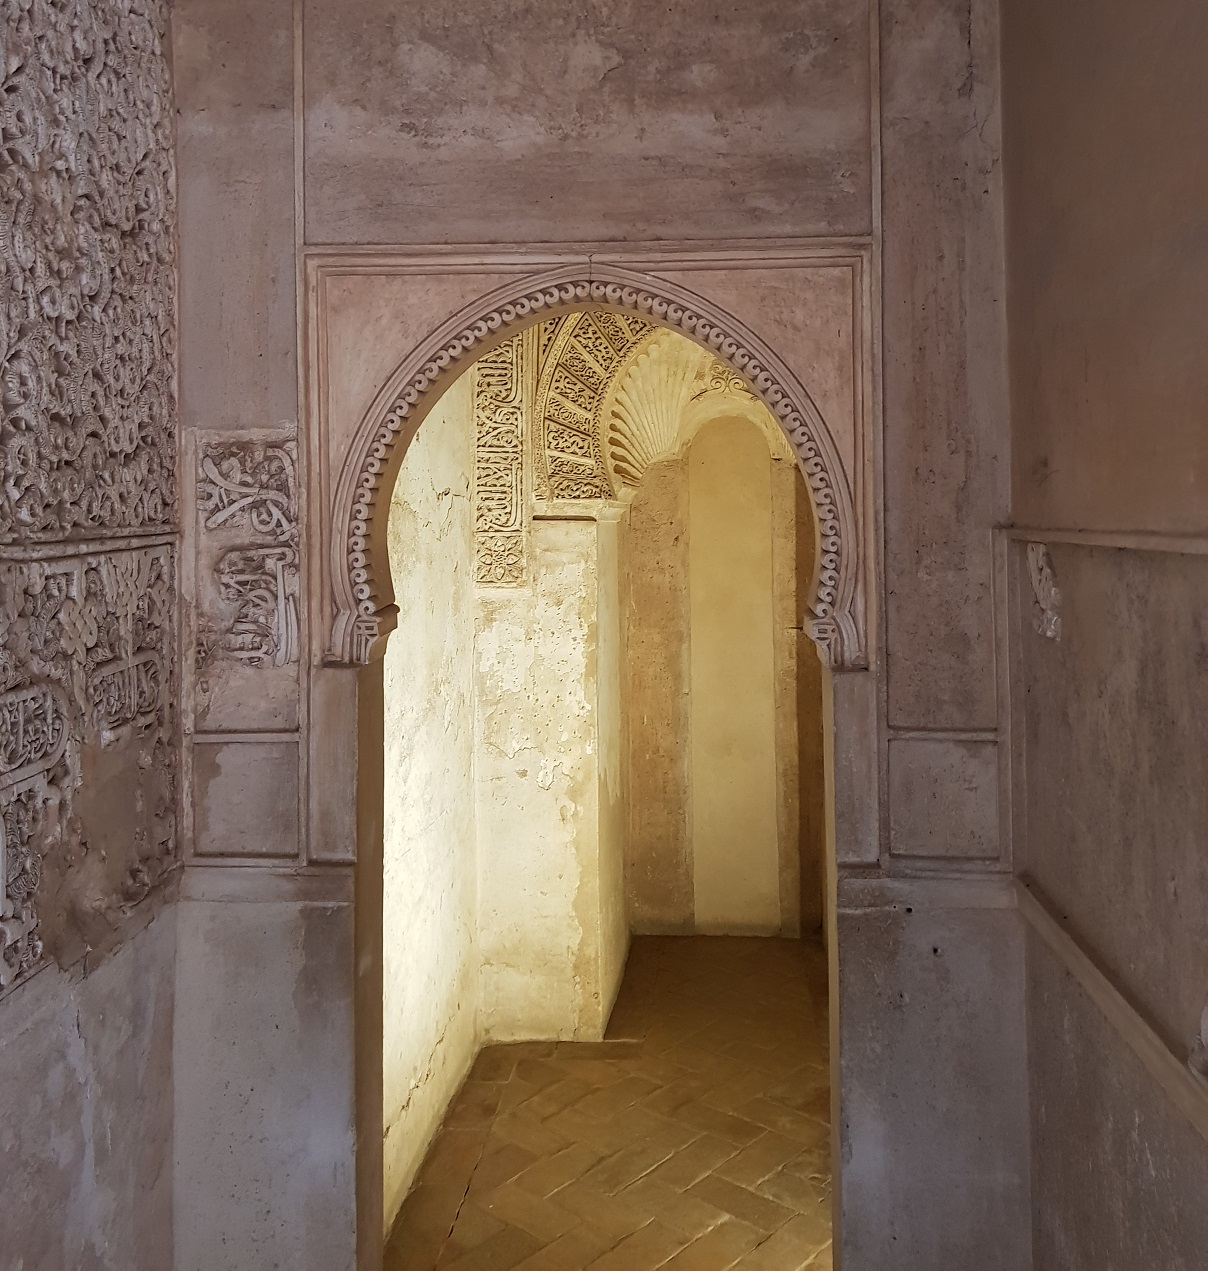arco-herradura: (326, 252, 864, 703)
